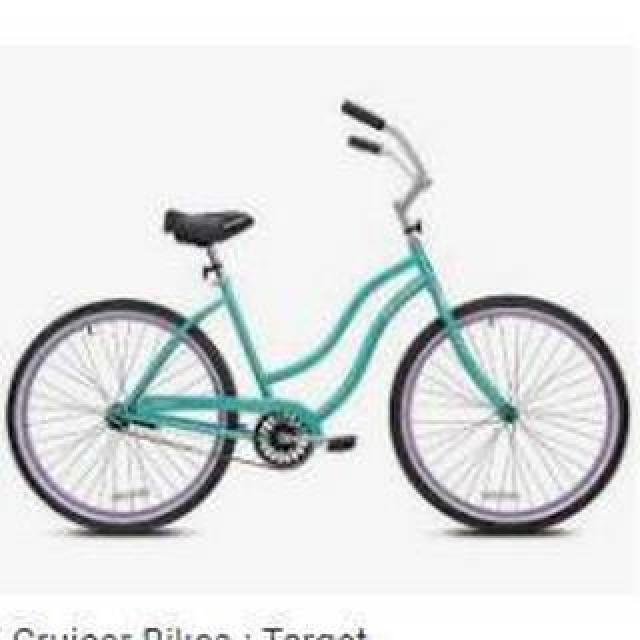Person: (9, 101, 627, 533)
